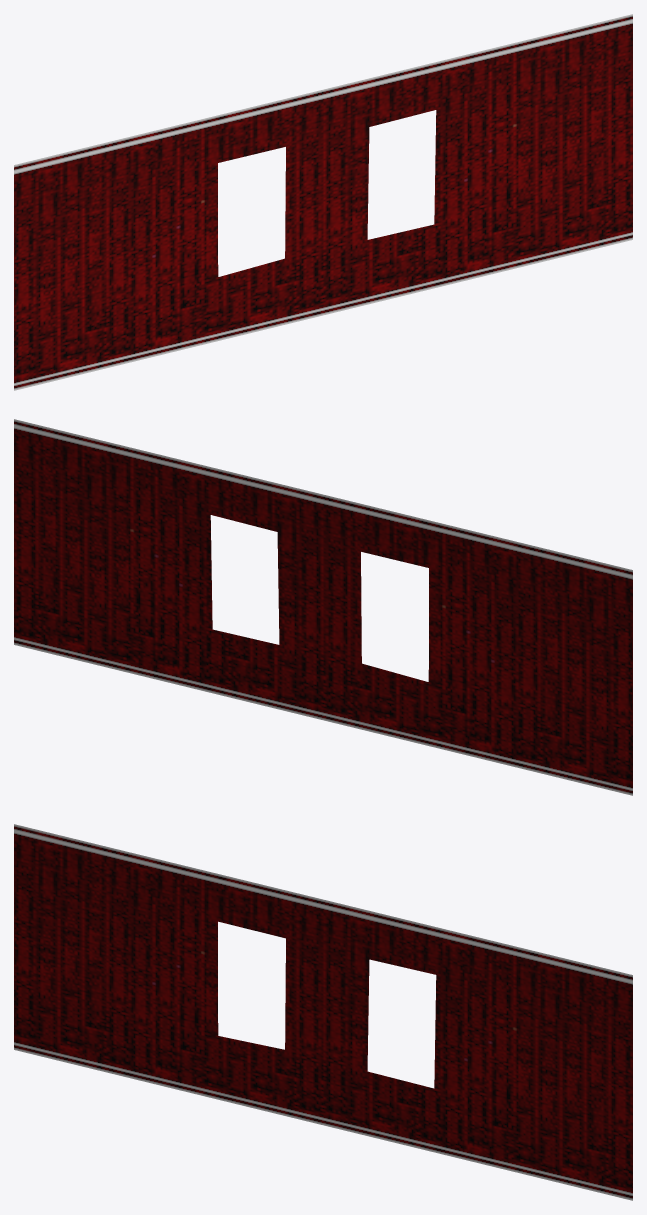
Rendered from W_AI3_xffx [Rot]_2109.glb.
3 renders of one model, top to bottom at view 1: azimuth 30°, elevation 25°; view 2: azimuth 150°, elevation 25°; view 3: azimuth 330°, elevation 25°, orthographic.
Visible parts, largest first — view 1: polySurfaceShape834; view 2: polySurfaceShape834; view 3: polySurfaceShape834.
Boxes of the visible parts, left/top/right/bottom form: polySurfaceShape834: left=14, top=14, right=632, bottom=390; polySurfaceShape834: left=14, top=419, right=632, bottom=795; polySurfaceShape834: left=14, top=824, right=632, bottom=1200.
Size of the model in its own units: 1 by 0.3486 by 1.52e-08.
Materials: 1 (1 with a texture image).
